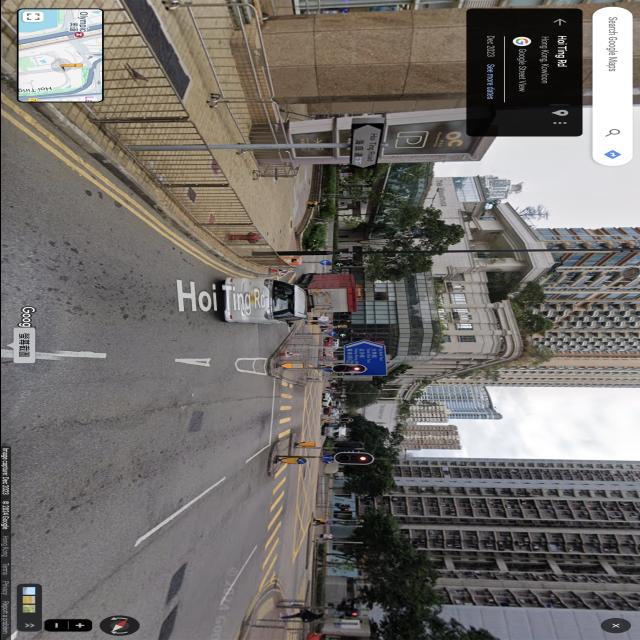Order-Sign: (322, 454, 334, 460), (296, 458, 306, 464), (319, 260, 330, 265), (327, 332, 336, 336)
Street-Direction-Sign: (348, 123, 383, 169)
Warning-Sign: (276, 268, 293, 276), (284, 350, 299, 359)
